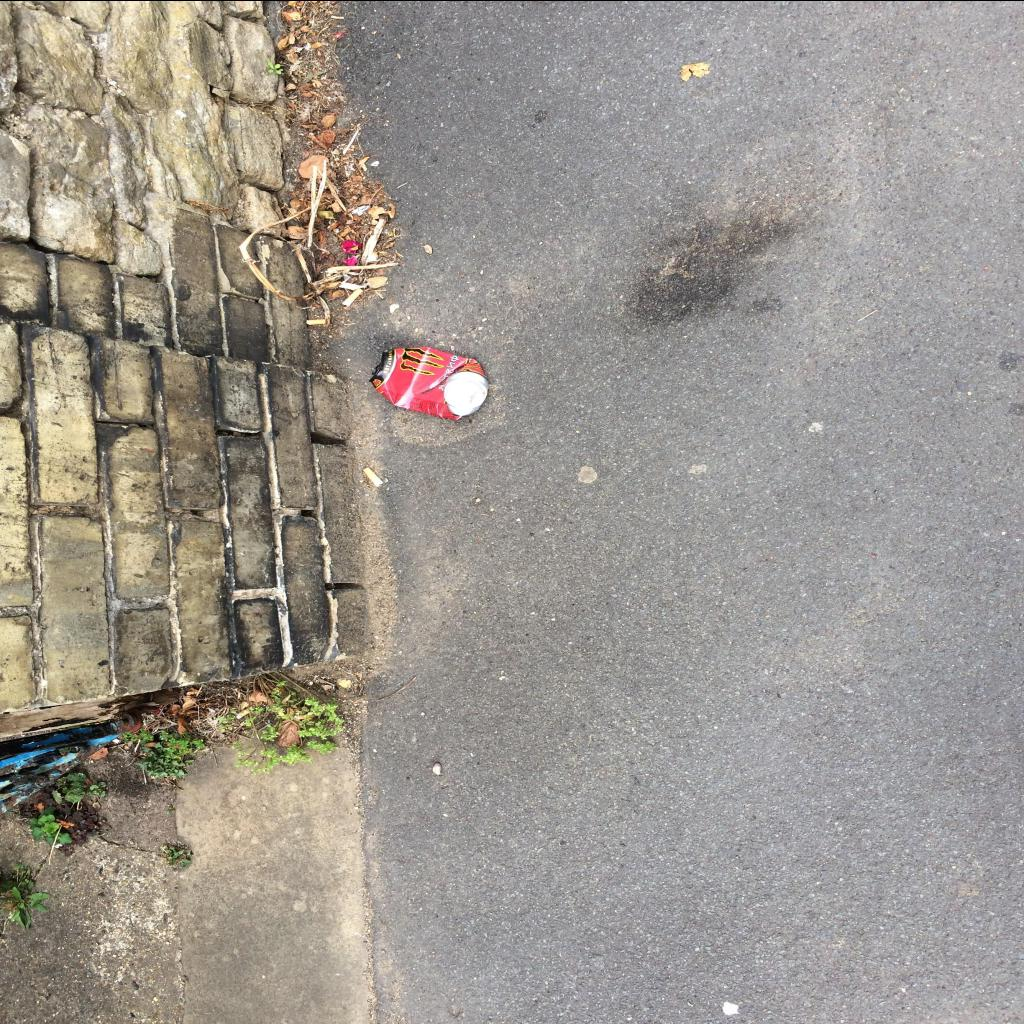Cigarette: (362, 466, 383, 486), (340, 287, 362, 305), (235, 708, 249, 718), (306, 318, 324, 323), (294, 714, 304, 718)
Drink can: (368, 346, 488, 418)
